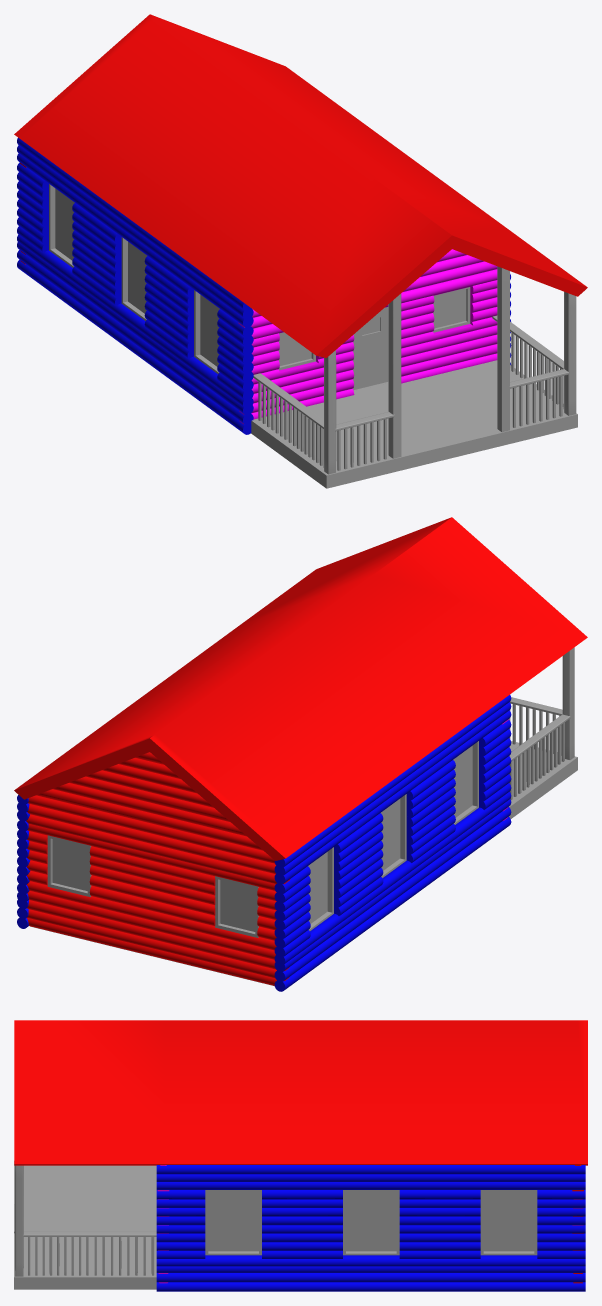
Rendered from cabin.fbx.
3 views of the same model, one above another, from view 1: azimuth 30°, elevation 25°; view 2: azimuth 150°, elevation 25°; view 3: azimuth 270°, elevation 25° (orthographic). The views are drawn at different scales.
Parts seen in each view (by area): view 1: roof, house, sidewoodwall, frontwoodwall, fence3, woodenstake3, woodenstake2, fence, fence2, fence1, woodenstake4, woodenstake; view 2: roof, backwoodwall, sidewoodwall, house, fence3, sidewoodwall2, woodenstake, fence1; view 3: roof, sidewoodwall2, house, fence, woodenstake4.
Boxes of the visible parts, x1,y1,x2,y2 form: roof: (14, 14, 587, 357); house: (49, 184, 577, 488); sidewoodwall: (17, 137, 253, 434); frontwoodwall: (238, 249, 497, 424); fence3: (253, 373, 323, 467); woodenstake3: (388, 293, 401, 458); woodenstake2: (497, 266, 509, 432); fence: (492, 315, 563, 408); fence2: (509, 369, 568, 427); fence1: (335, 411, 394, 470); woodenstake4: (564, 291, 576, 415); woodenstake: (324, 350, 336, 474); roof: (14, 517, 587, 860); backwoodwall: (26, 752, 290, 985); sidewoodwall: (274, 695, 511, 991); house: (30, 741, 577, 985); fence3: (509, 714, 570, 800); sidewoodwall2: (17, 795, 30, 928); woodenstake: (562, 647, 574, 759); fence1: (510, 697, 562, 755); roof: (14, 1020, 587, 1165); sidewoodwall2: (156, 1165, 585, 1291); house: (14, 1161, 537, 1289); fence: (23, 1231, 156, 1275); woodenstake4: (15, 1165, 23, 1276).
Size of the model in its own units: 10 by 7.83 by 19.27.
